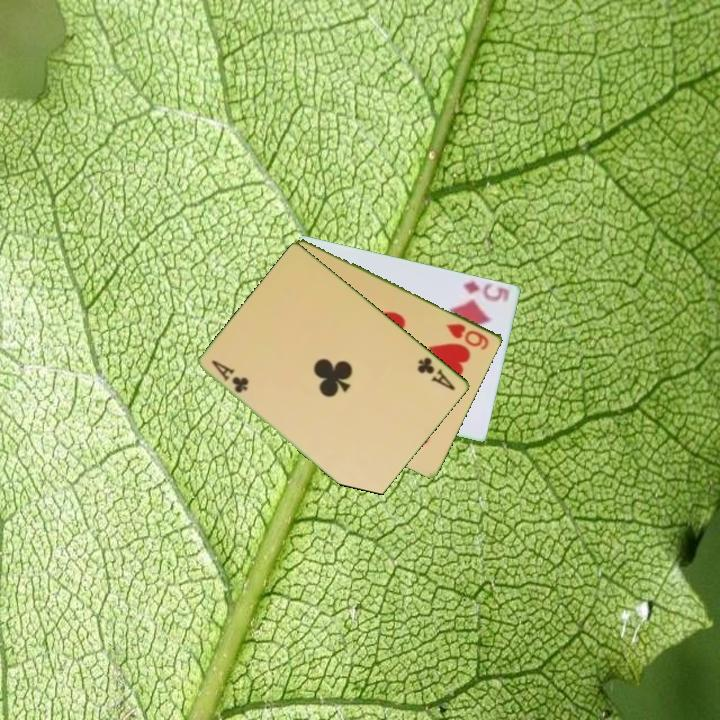5d: (459, 277, 513, 305)
6h: (443, 320, 492, 353)
Ac: (414, 353, 459, 394), (208, 356, 252, 396)
